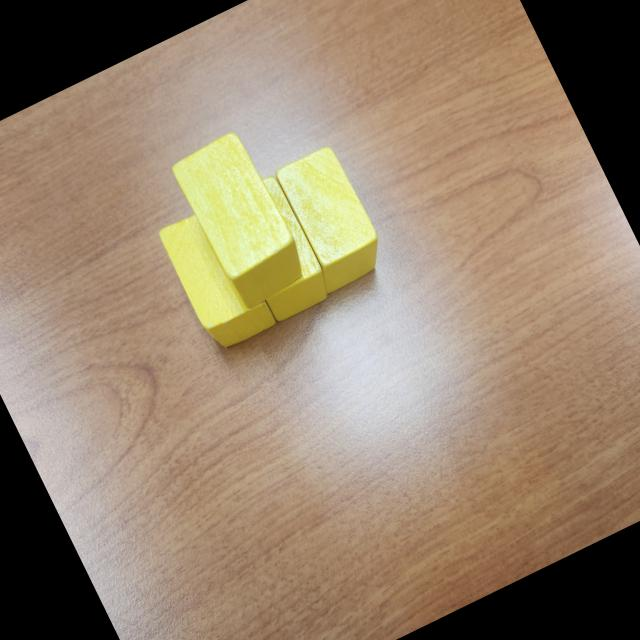yellow: (167, 127, 313, 313), (156, 200, 280, 356), (268, 142, 392, 296), (216, 171, 336, 326)
